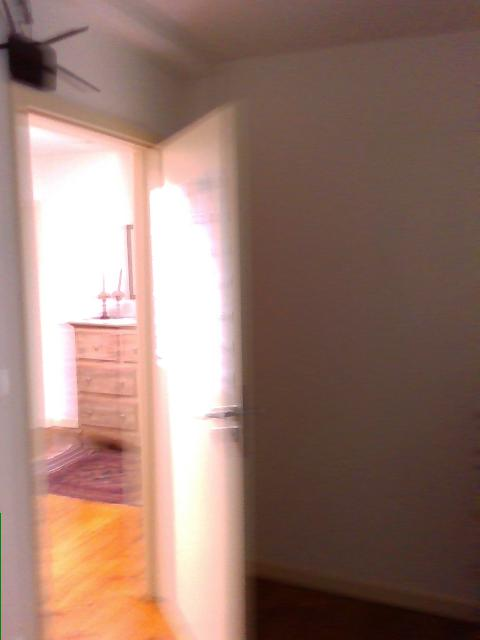semi_door: (2, 78, 263, 639)
